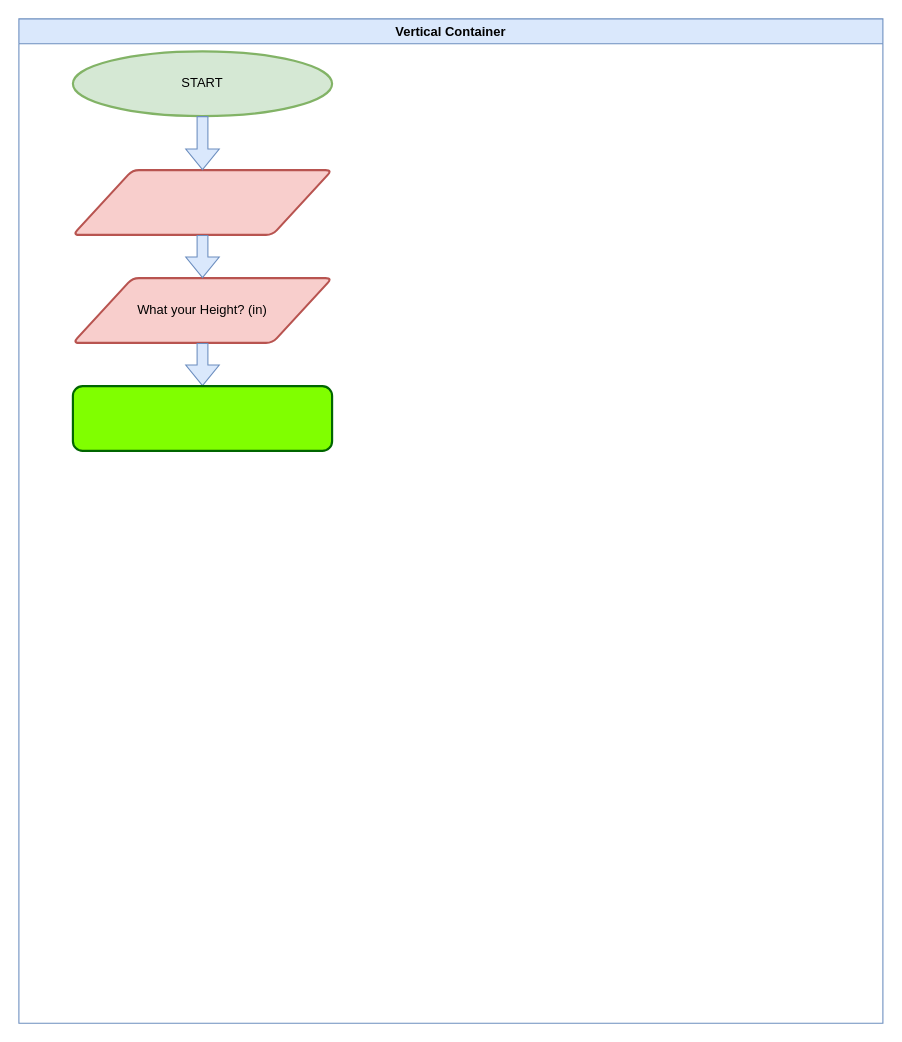
This 902x1042 diagram has some shape labels left out. The shapes that lost their labels are listed below. From the top down, each one's centre as x and y in pixels, then its label:
At (202,201): "What your Weight? (lb)".
At (202,417): "Store users input in name variable".
